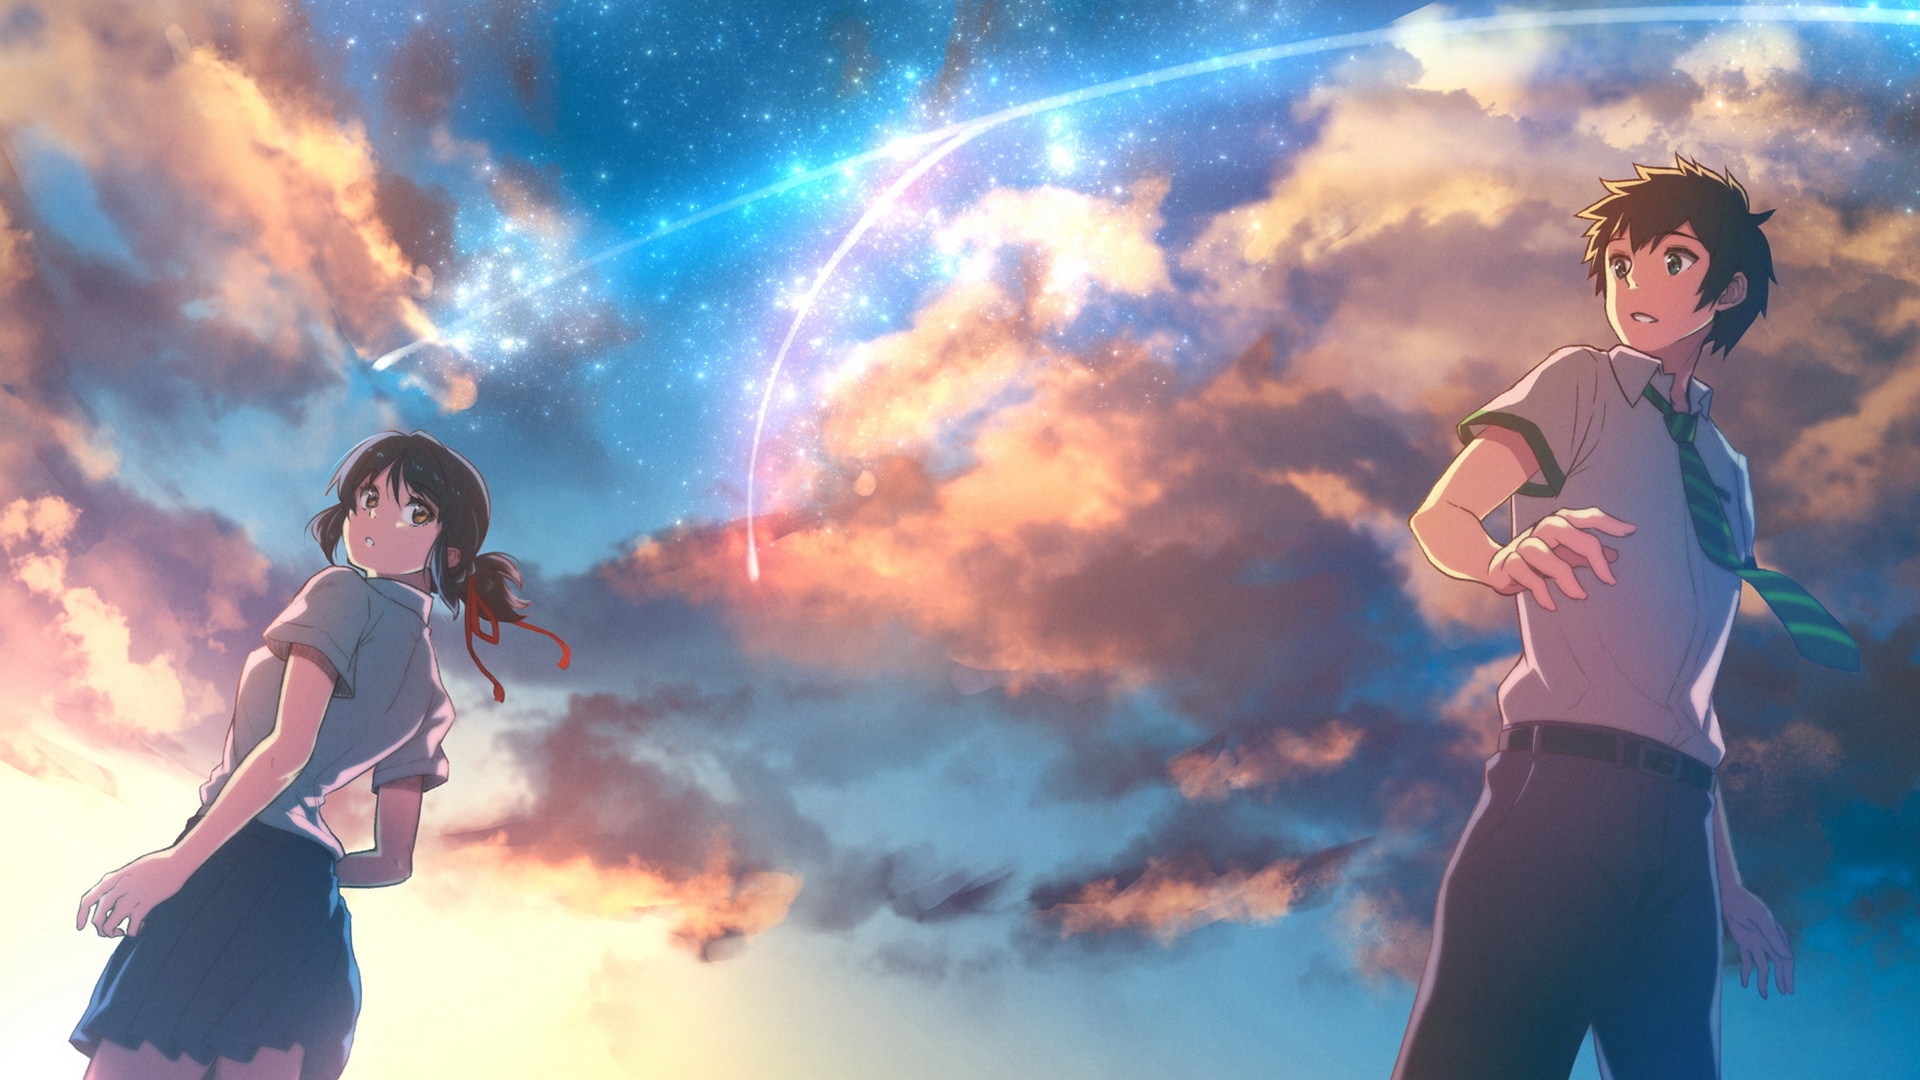car: (1346, 493, 1490, 652), (1347, 257, 1459, 379)
cat: (1108, 513, 1295, 766), (806, 355, 986, 500)
dog: (1380, 715, 1546, 831)
person: (643, 627, 843, 860), (110, 142, 304, 293), (1589, 184, 1766, 350), (336, 430, 487, 581), (752, 176, 960, 277), (897, 146, 1187, 219), (949, 813, 1119, 926), (1054, 720, 1181, 847), (971, 560, 1173, 627), (558, 338, 657, 463), (1040, 372, 1162, 457), (731, 374, 867, 448), (507, 167, 621, 250), (1165, 282, 1248, 341), (667, 509, 753, 559)
